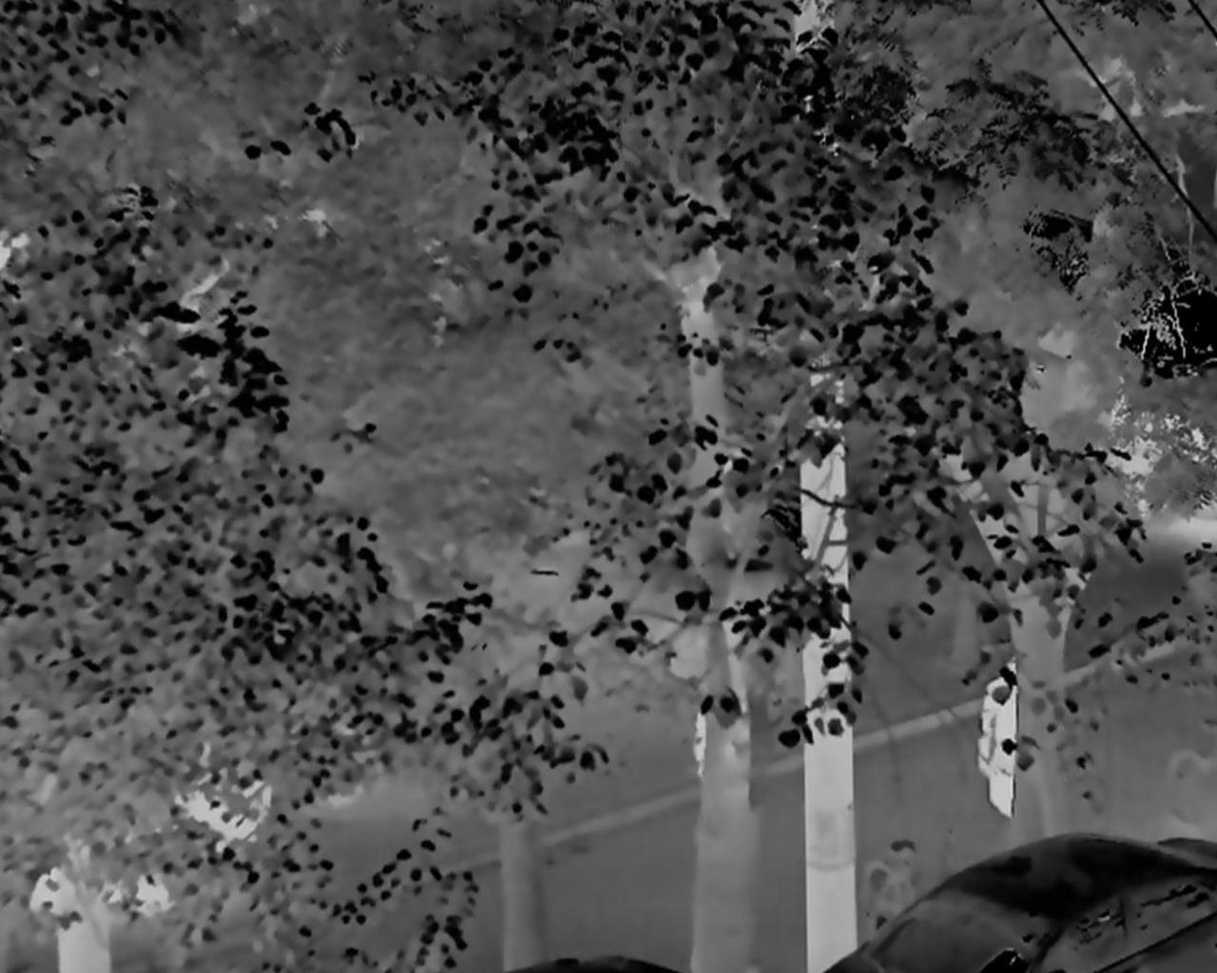person: (982, 655, 1025, 823)
